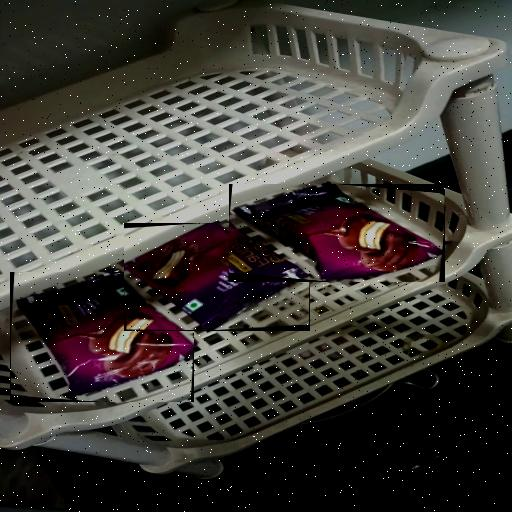Choco Pie: (10, 272, 194, 402), (229, 184, 445, 282), (124, 223, 310, 331)
